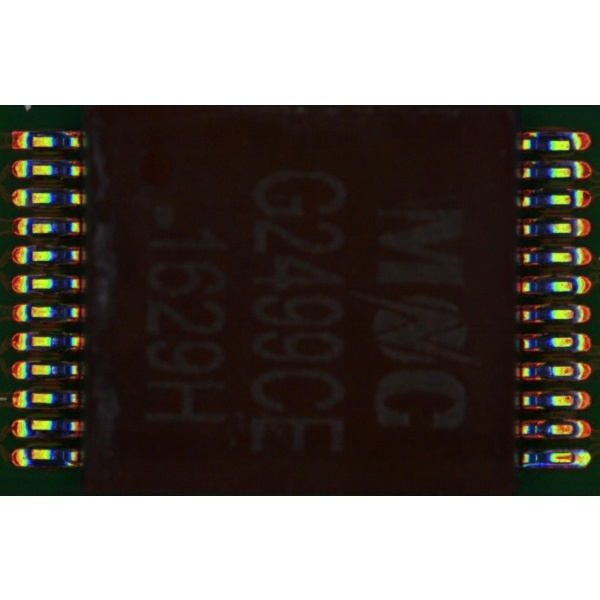Bad_podu: (567, 452, 583, 462)
Bad_qiaojiao: (523, 461, 571, 466)
